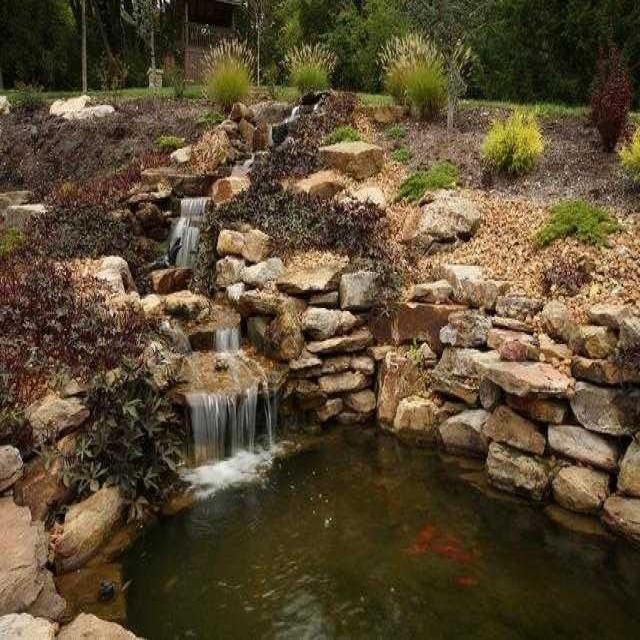Ponds: (1, 91, 640, 640)
